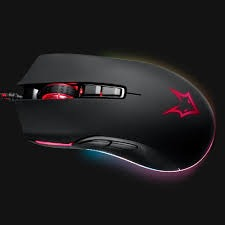mouse: (2, 45, 225, 186)
